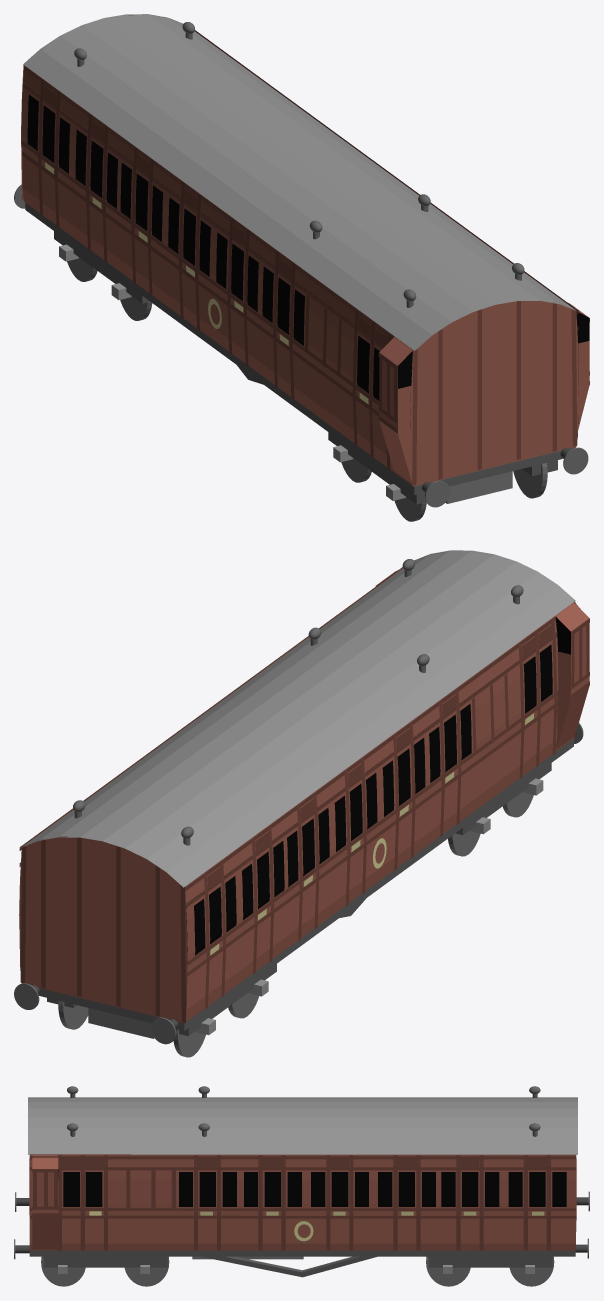
Rendered from lbscr-sub-bogie-48ft-brake.dae.
3 renders of one model, top to bottom at view 1: azimuth 30°, elevation 25°; view 2: azimuth 150°, elevation 25°; view 3: azimuth 270°, elevation 25°, orthographic. The views are drawn at different scales.
Visible parts, largest first — view 1: Tube, Plane_030, Plane_051, Plane_054, Plane_081, Plane_002, Plane_032, Plane_123, Cylinder_013, Plane_029, Plane_184, Plane_178 (+16 smaller); view 2: Tube, Plane_001, Plane_030, Plane_081, Plane_002, Plane_032, Plane_123, Cylinder_012, Plane_029, Plane_184, Plane_178, Plane_177 (+11 smaller); view 3: Tube, Plane_007, Plane_010, Plane_004, Plane_002, Plane_183, Plane_012, Plane_005, Plane_123_001, Plane_063, Cube_009, Cube_008 (+43 smaller).
Boxes of the visible parts, bbox=[...] form: Tube: bbox=[23, 14, 576, 350]; Plane_030: bbox=[22, 151, 412, 484]; Plane_051: bbox=[410, 378, 578, 486]; Plane_054: bbox=[424, 313, 564, 415]; Plane_081: bbox=[21, 86, 411, 424]; Plane_002: bbox=[25, 202, 575, 494]; Plane_032: bbox=[23, 65, 412, 366]; Plane_123: bbox=[379, 337, 412, 483]; Cylinder_013: bbox=[417, 301, 571, 348]; Plane_029: bbox=[22, 145, 411, 431]; Plane_184: bbox=[24, 66, 412, 354]; Plane_178: bbox=[21, 151, 379, 415]; Tube: bbox=[21, 550, 575, 887]; Plane_001: bbox=[19, 847, 187, 1023]; Plane_030: bbox=[186, 701, 574, 1022]; Plane_081: bbox=[186, 636, 558, 961]; Plane_002: bbox=[38, 739, 573, 1031]; Plane_032: bbox=[185, 602, 573, 903]; Plane_123: bbox=[555, 602, 589, 749]; Cylinder_012: bbox=[26, 836, 180, 885]; Plane_029: bbox=[187, 695, 557, 971]; Plane_184: bbox=[185, 602, 574, 891]; Plane_178: bbox=[187, 702, 557, 976]; Plane_177: bbox=[187, 691, 558, 965]; Tube: bbox=[28, 1097, 577, 1154]; Plane_007: bbox=[29, 1215, 576, 1250]; Plane_010: bbox=[29, 1167, 576, 1209]; Plane_004: bbox=[29, 1154, 576, 1166]; Plane_002: bbox=[29, 1250, 575, 1256]; Plane_183: bbox=[29, 1156, 576, 1159]; Plane_012: bbox=[29, 1167, 576, 1170]; Plane_005: bbox=[29, 1210, 576, 1215]; Plane_123_001: bbox=[32, 1155, 58, 1249]; Plane_063: bbox=[29, 1215, 576, 1218]; Cube_009: bbox=[428, 1256, 552, 1267]; Cube_008: bbox=[43, 1256, 167, 1267].
Bounding box in the file's own units: 2.38 × 8.71 × 2.68.
